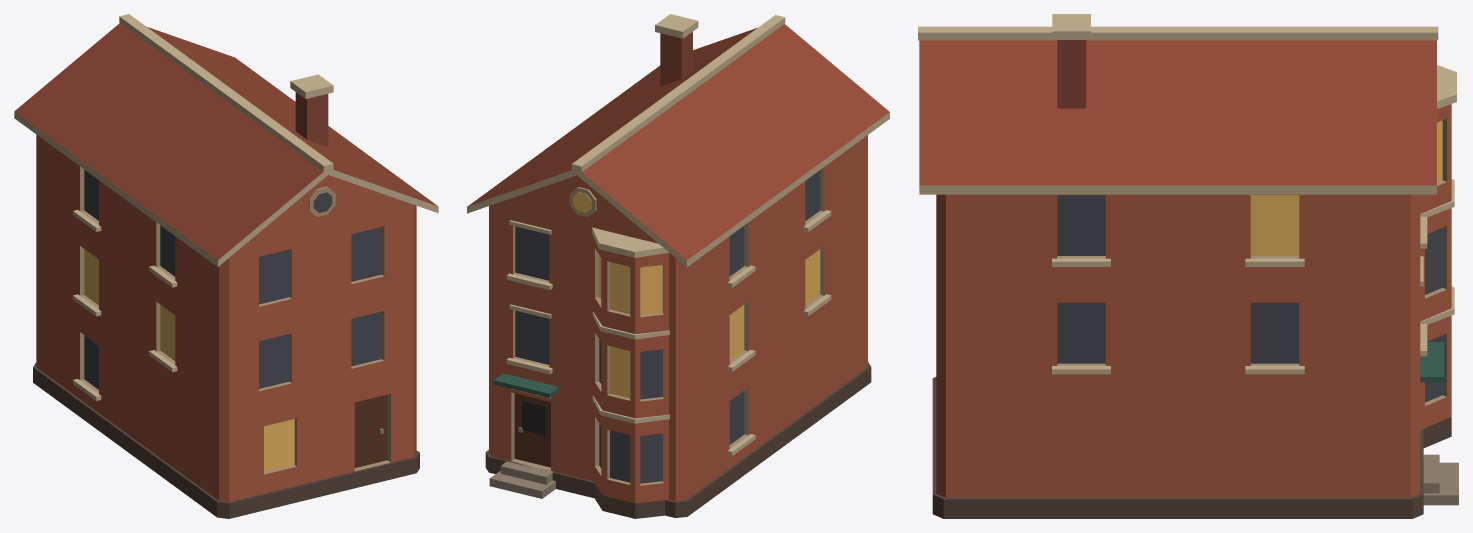
File: Bldg_Narrow3.fbx
The picture shows the model from 3 angles, left to right: view 1: azimuth 30°, elevation 25°; view 2: azimuth 150°, elevation 25°; view 3: azimuth 270°, elevation 25°; orthographic projection. The views are drawn at different scales.
Visible parts, largest first — view 1: Bldg_Narrow3; view 2: Bldg_Narrow3; view 3: Bldg_Narrow3.
Boxes of the visible parts, bbox=[...] form: Bldg_Narrow3: bbox=[14, 14, 438, 518]; Bldg_Narrow3: bbox=[467, 14, 889, 518]; Bldg_Narrow3: bbox=[918, 14, 1458, 518].
Size of the model in its own units: 1340 by 2100 by 2235.
1 material, 1 textured.
